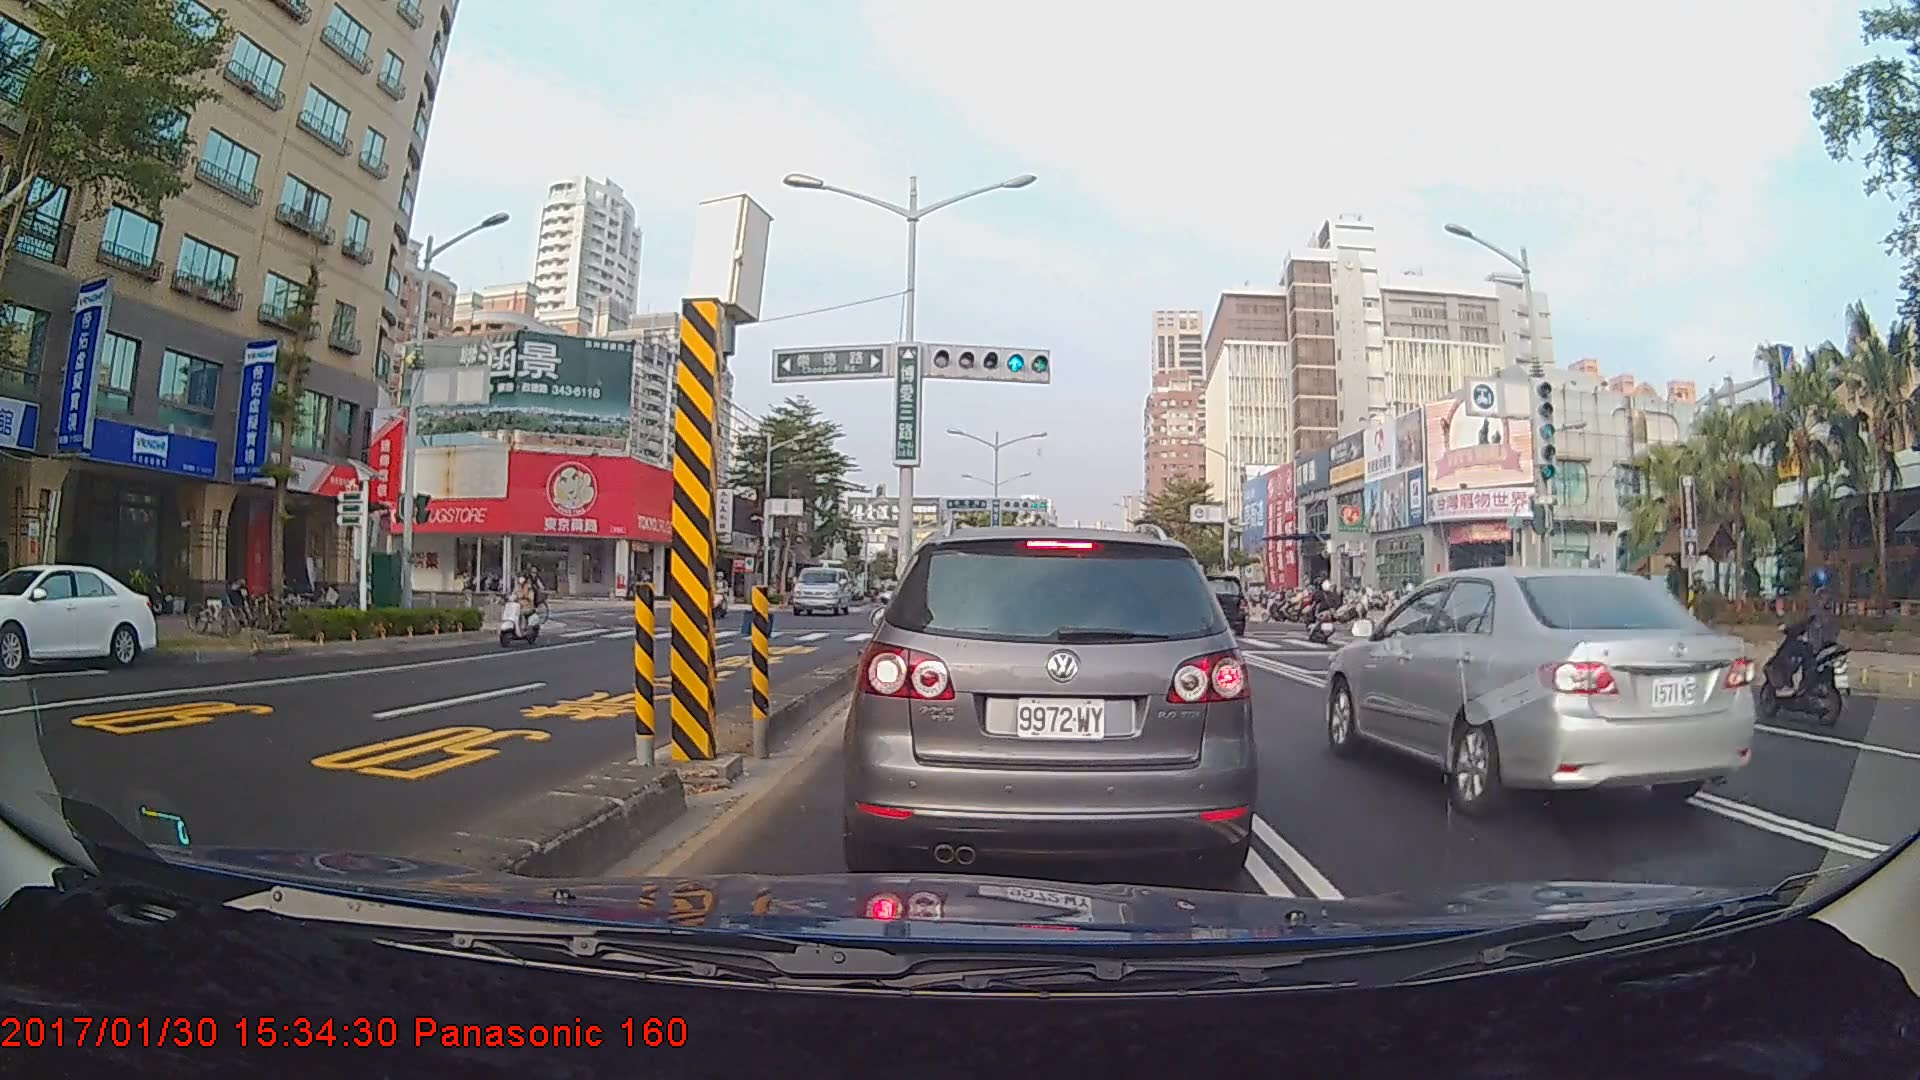rider: (1762, 564, 1855, 722), (494, 568, 553, 656), (518, 559, 561, 629)
vehicle: (854, 524, 1252, 876), (1320, 567, 1760, 822), (0, 561, 157, 671), (1177, 572, 1246, 633), (791, 566, 852, 617)
